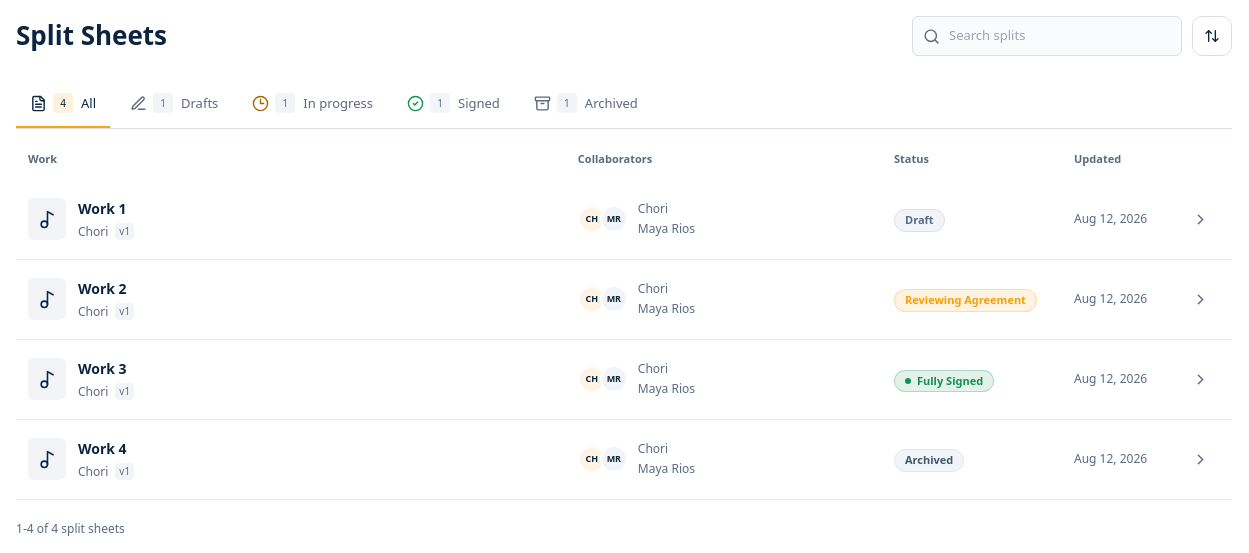
it: split sheet library › filters records by status and search, and recovers from no results
Expected: the number of buttons named "Open Work" is 4, [78,198,127,218]; [78,278,127,298]; [78,358,127,378]; [78,438,127,458]
Press the mouse on the tab "1 Drafts" at (174, 104), box [116,80,232,128]
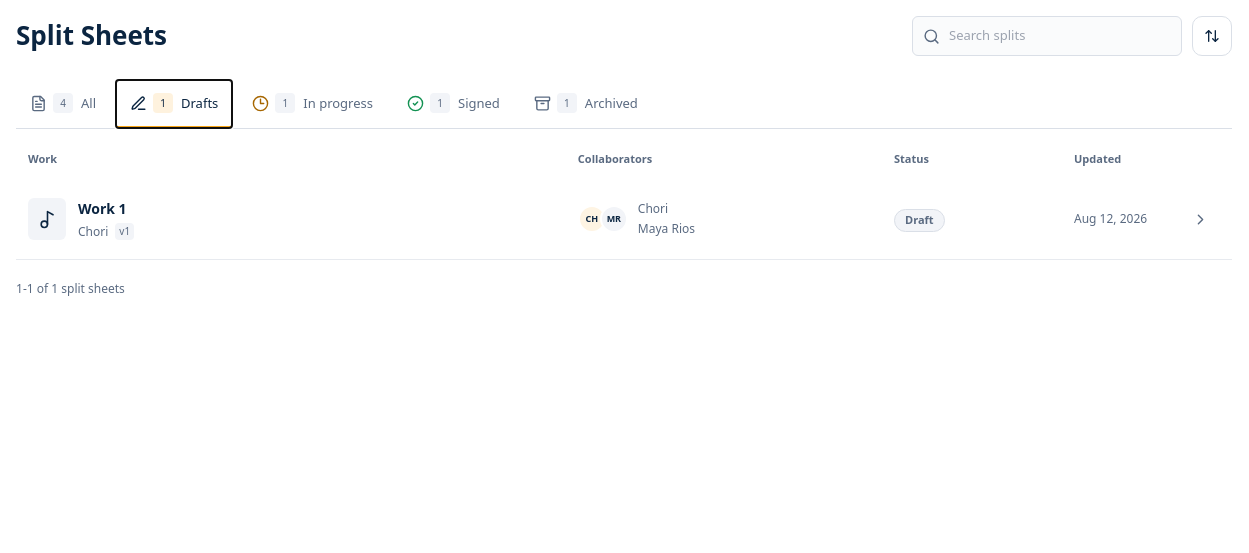
Expected: the number of buttons named "Open Work" is 1, [78,198,127,218]
Type "missing" into the field at (1060, 36), box [949,26,1171,46]
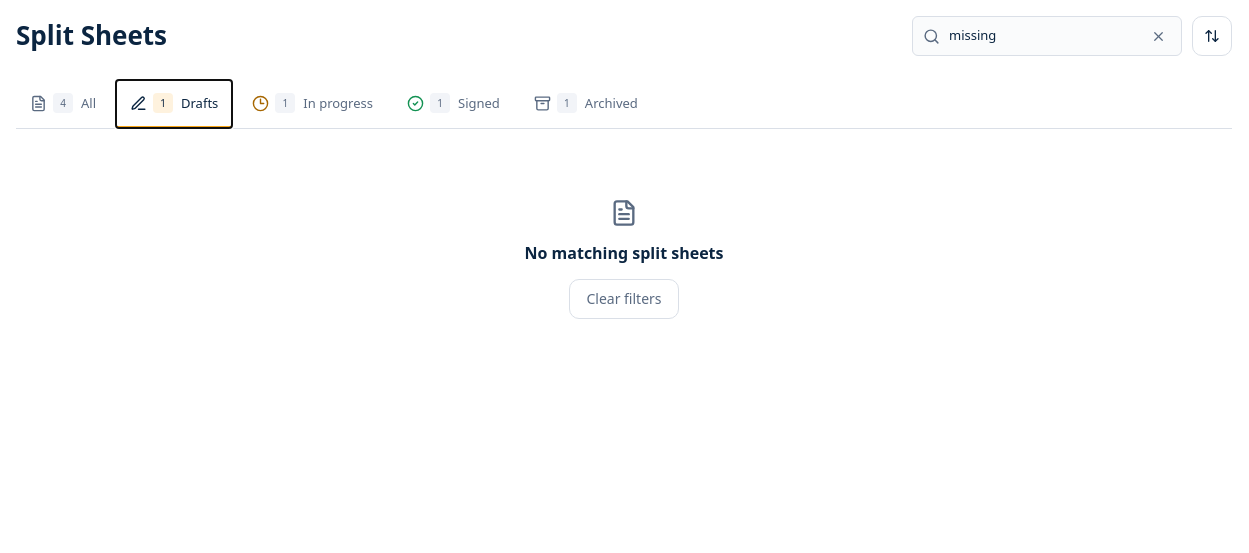
Expected: the heading "No matching split sheets" is shown, [524,241,724,265]
Click the button "Clear filters" at (624, 299), box [569,279,678,319]
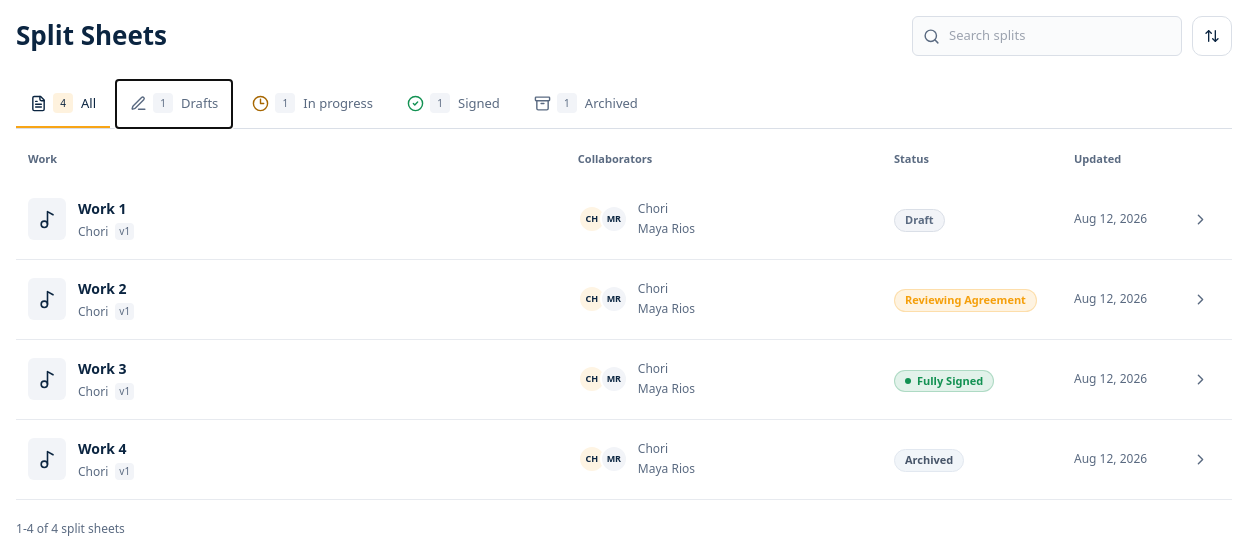
Expected: the field is empty, [949,26,1171,46]
Expected: the number of buttons named "Open Work" is 4, [78,198,127,218]; [78,278,127,298]; [78,358,127,378]; [78,438,127,458]
